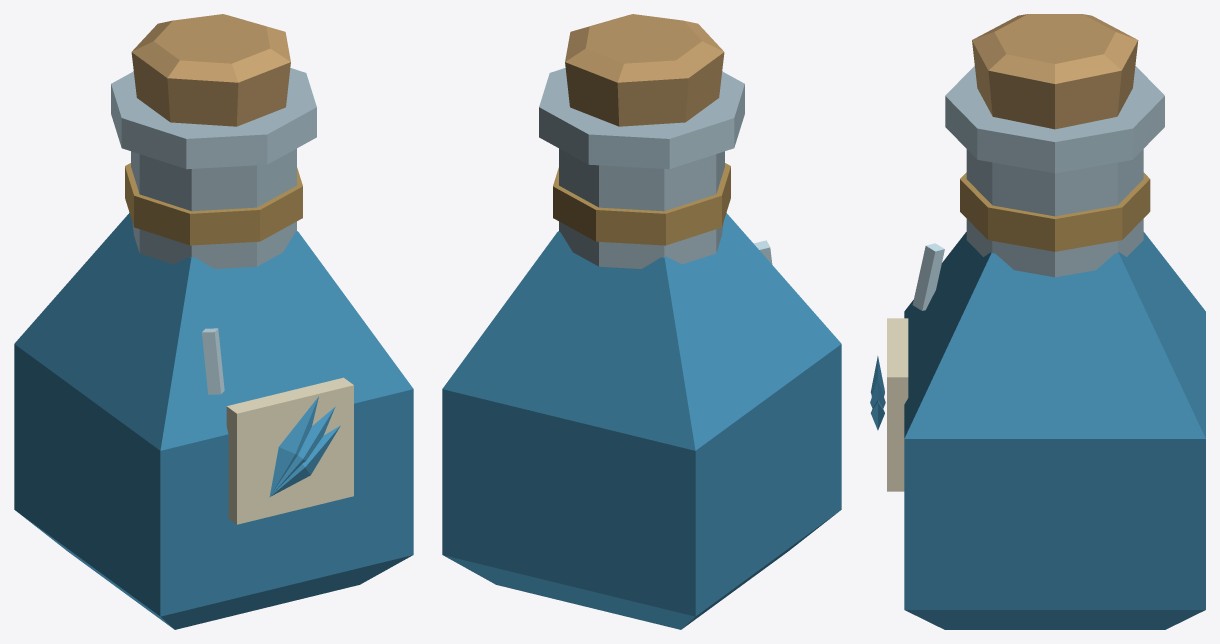
File: item_potion_swiftness.glb
3 views of the same model, side by side, from view 1: azimuth 30°, elevation 25°; view 2: azimuth 150°, elevation 25°; view 3: azimuth 270°, elevation 25° (orthographic). The views are drawn at different scales.
Visible parts, largest first — view 1: item_potion_swiftness; view 2: item_potion_swiftness; view 3: item_potion_swiftness.
Part boxes in pixels (x1=…): item_potion_swiftness: x1=14, y1=14, x2=413, y2=629; item_potion_swiftness: x1=442, y1=14, x2=841, y2=629; item_potion_swiftness: x1=870, y1=14, x2=1205, y2=629.
Size of the model in its own units: 0.1838 by 0.367 by 0.2047.
